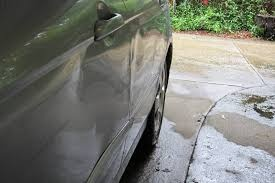Dent: (52, 37, 126, 169)
Scratch: (92, 142, 128, 183)
